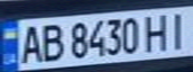0: (121, 15, 142, 55)
3: (103, 16, 124, 56)
4: (87, 17, 109, 57)
8: (66, 19, 90, 60)
A: (15, 22, 45, 65)
B: (36, 20, 66, 62)
H: (142, 11, 175, 52)
I: (163, 8, 193, 51)
